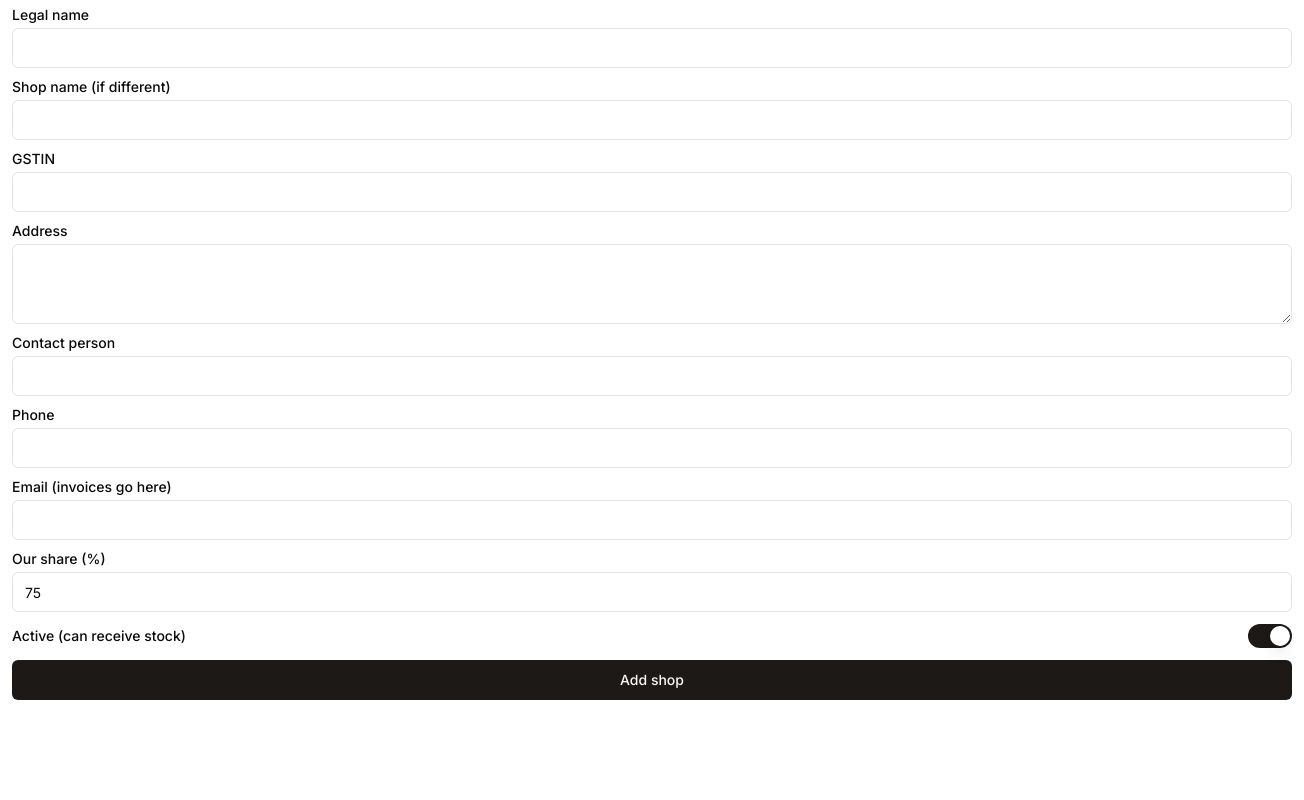
Test: RetailerForm › submits the fields with the share as a number and shows a server error
The image size is (1304, 800).
In the field labelled "Legal name": (652, 48) [12, 28, 1292, 68], type "Kids Corner LLP"
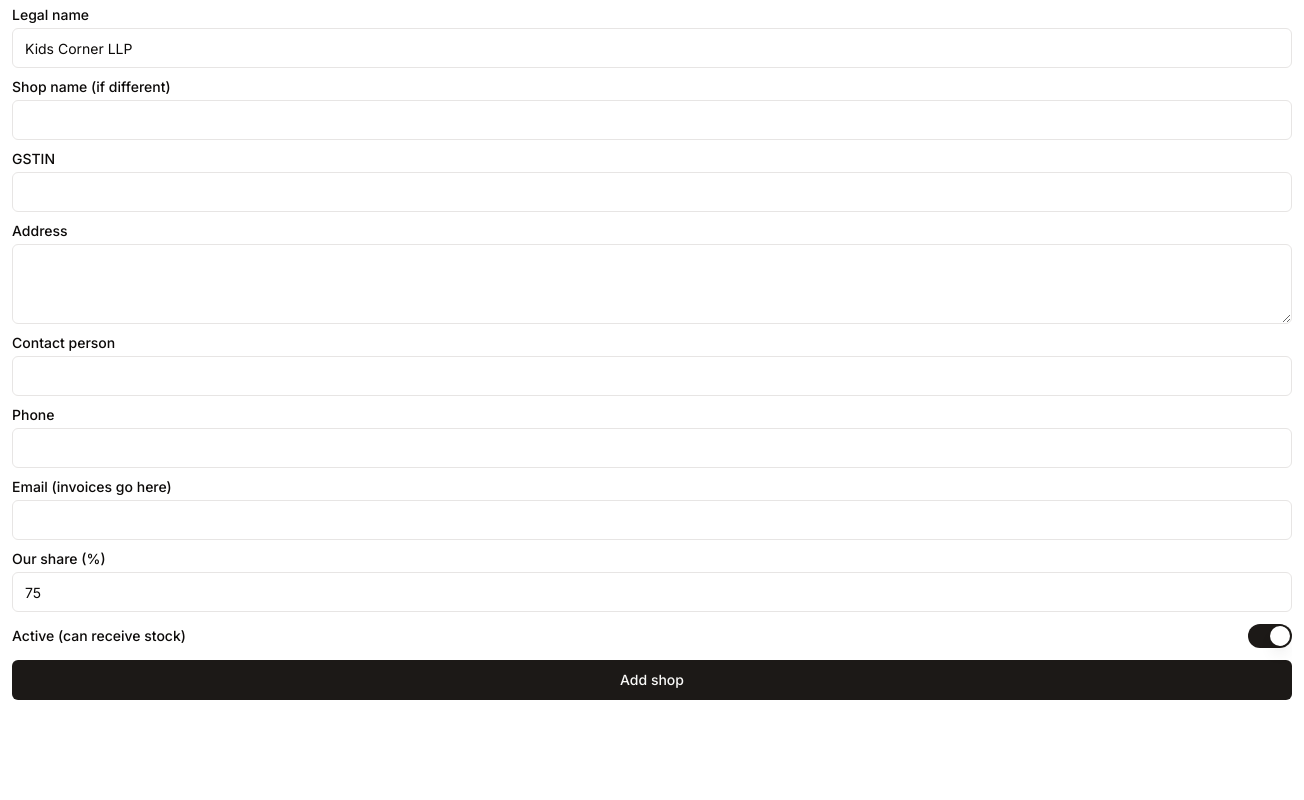
In the field labelled "GSTIN": (652, 192) [12, 172, 1292, 212], type "29AAGFC4321M1ZB"
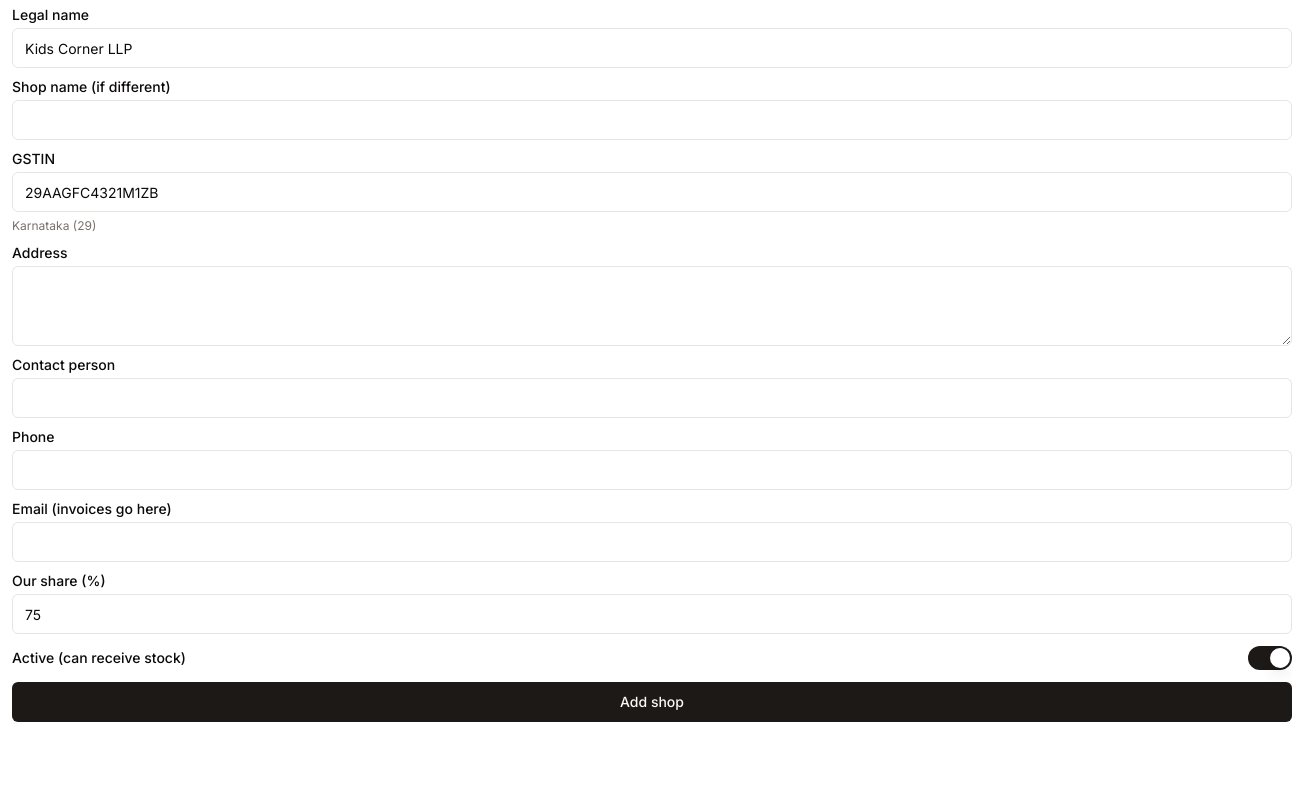
In the text box labelled "Address": (652, 306) [12, 266, 1292, 346], type "12 MG Road"
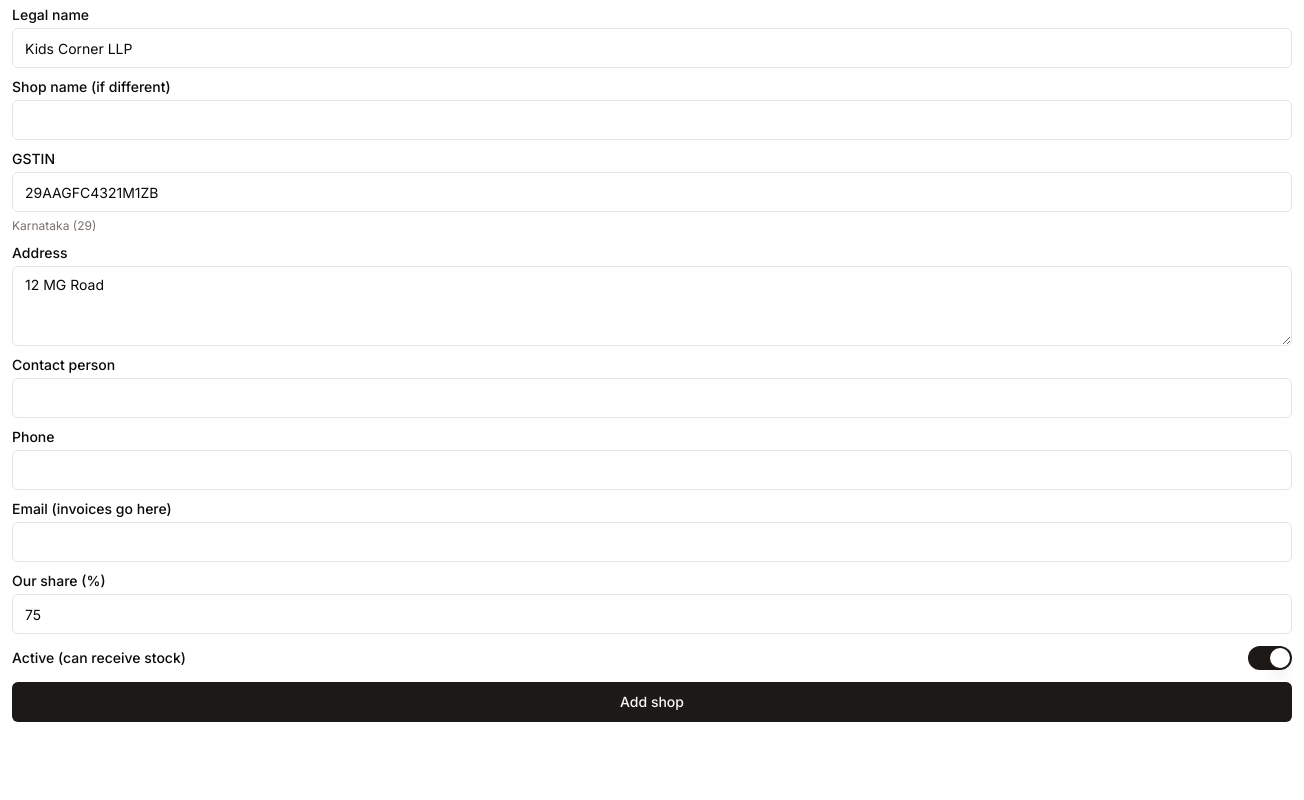
Replace the text in the number field labelled "Our share (%)" with "72.5": (652, 614) [12, 594, 1292, 634]
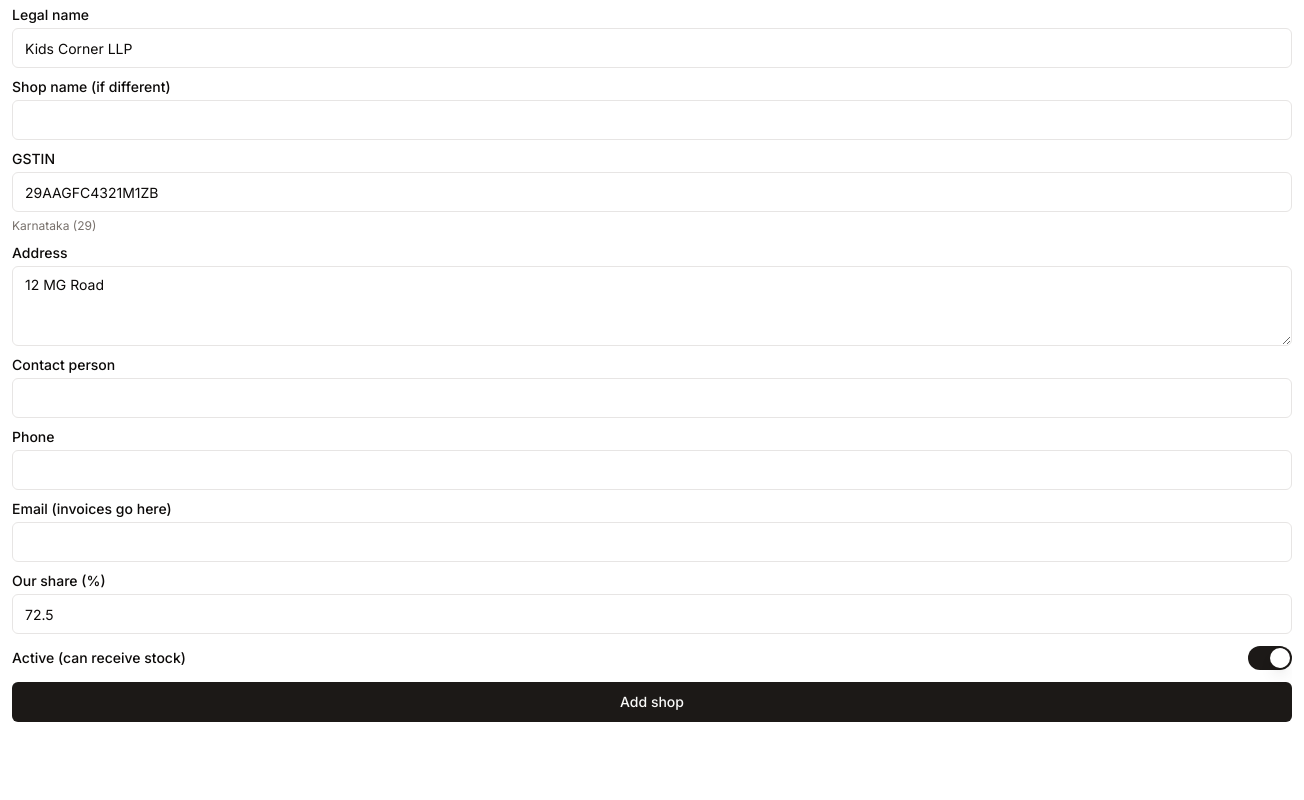
Click the button "Add shop": (652, 702) [12, 682, 1292, 722]
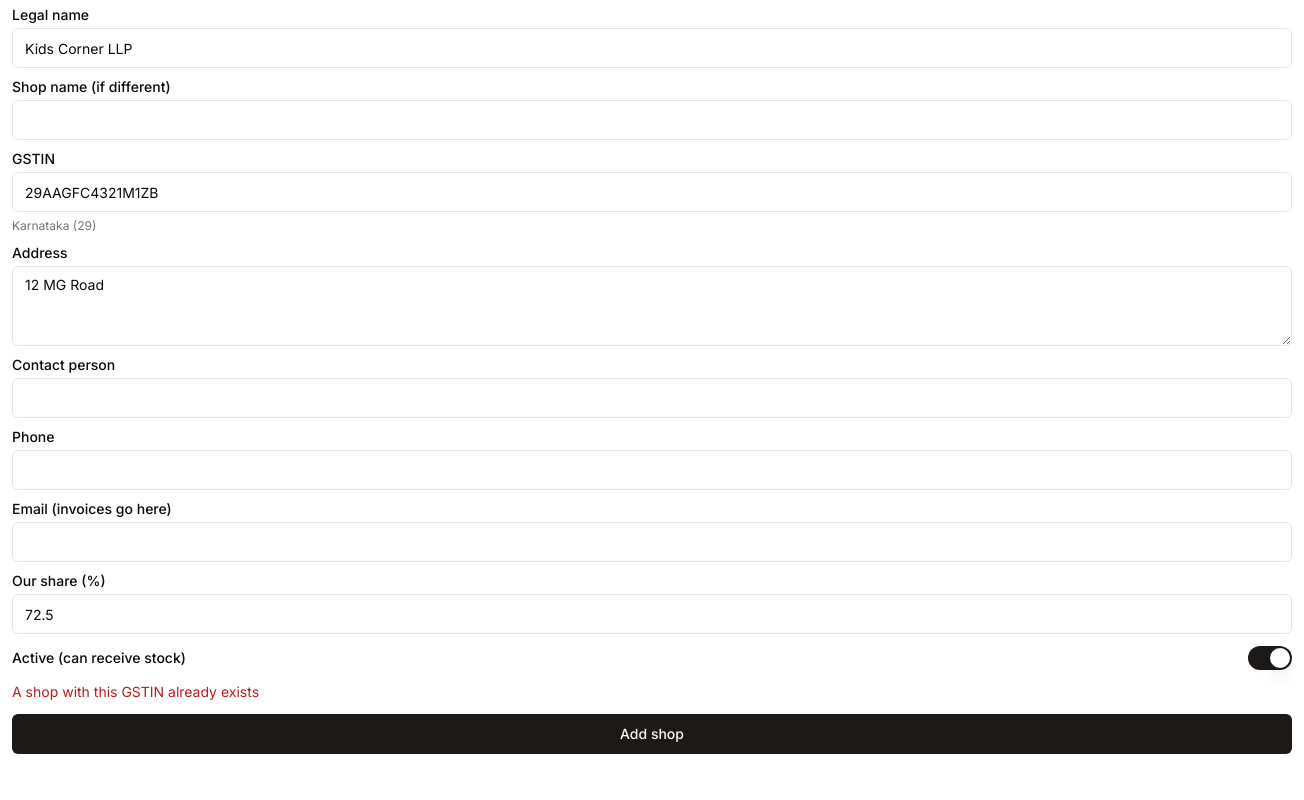
Now the message reads "A shop with this GSTIN already exists", box [12, 683, 259, 700]
